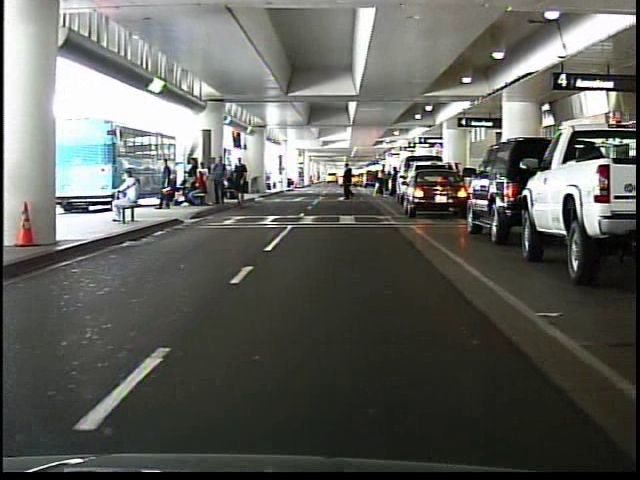person: (99, 166, 144, 228), (152, 156, 176, 213), (341, 162, 360, 206), (374, 160, 390, 197)
